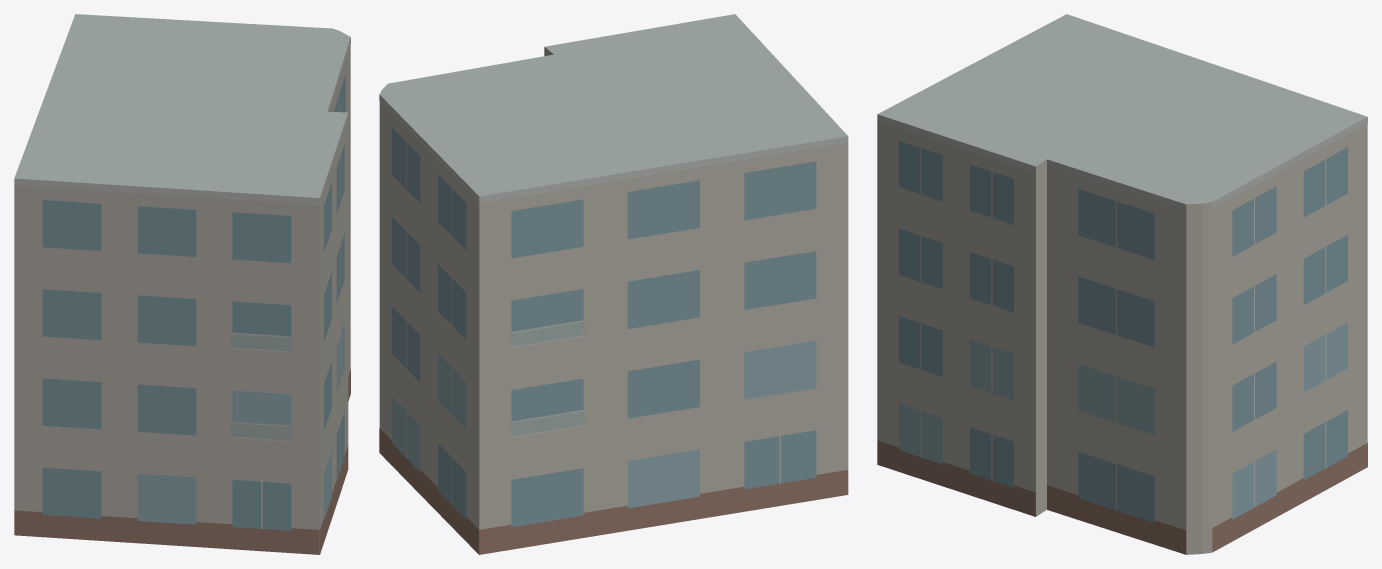
Rendered from survey-upis-32743314.glb.
3 renders of one model, left to right at view 1: azimuth 30°, elevation 25°; view 2: azimuth 150°, elevation 25°; view 3: azimuth 270°, elevation 25°, orthographic. The views are drawn at different scales.
Parts seen in each view (by area): view 1: survey-upis-32743314.tmp; view 2: survey-upis-32743314.tmp; view 3: survey-upis-32743314.tmp.
Part boxes in pixels (box(x1,y1,x2,y2)): survey-upis-32743314.tmp: box(14, 14, 350, 554); survey-upis-32743314.tmp: box(379, 14, 848, 554); survey-upis-32743314.tmp: box(877, 14, 1367, 554).
Size of the model in its own units: 15.16 by 13 by 16.5.
